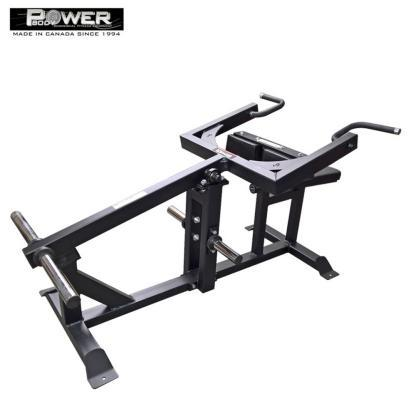seated dip machine: (11, 92, 402, 388)
